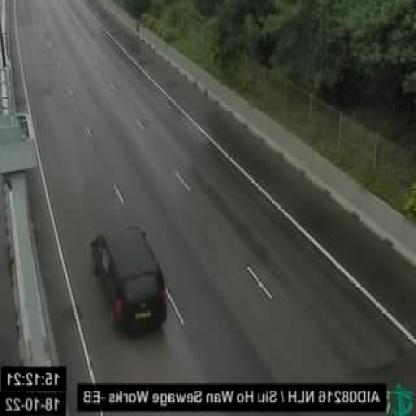Car: (89, 226, 168, 337)
